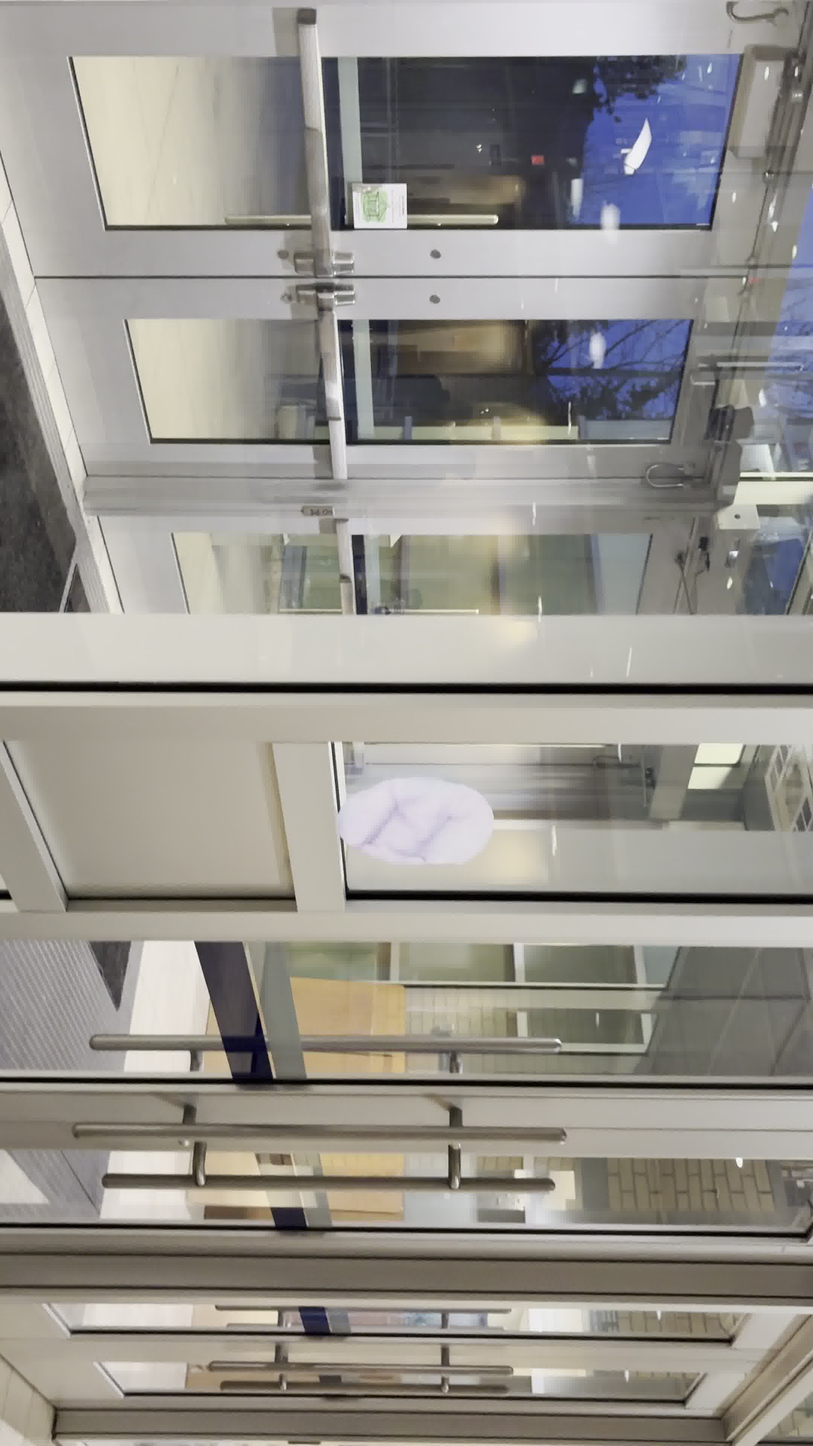Target: (326, 763, 501, 878)
